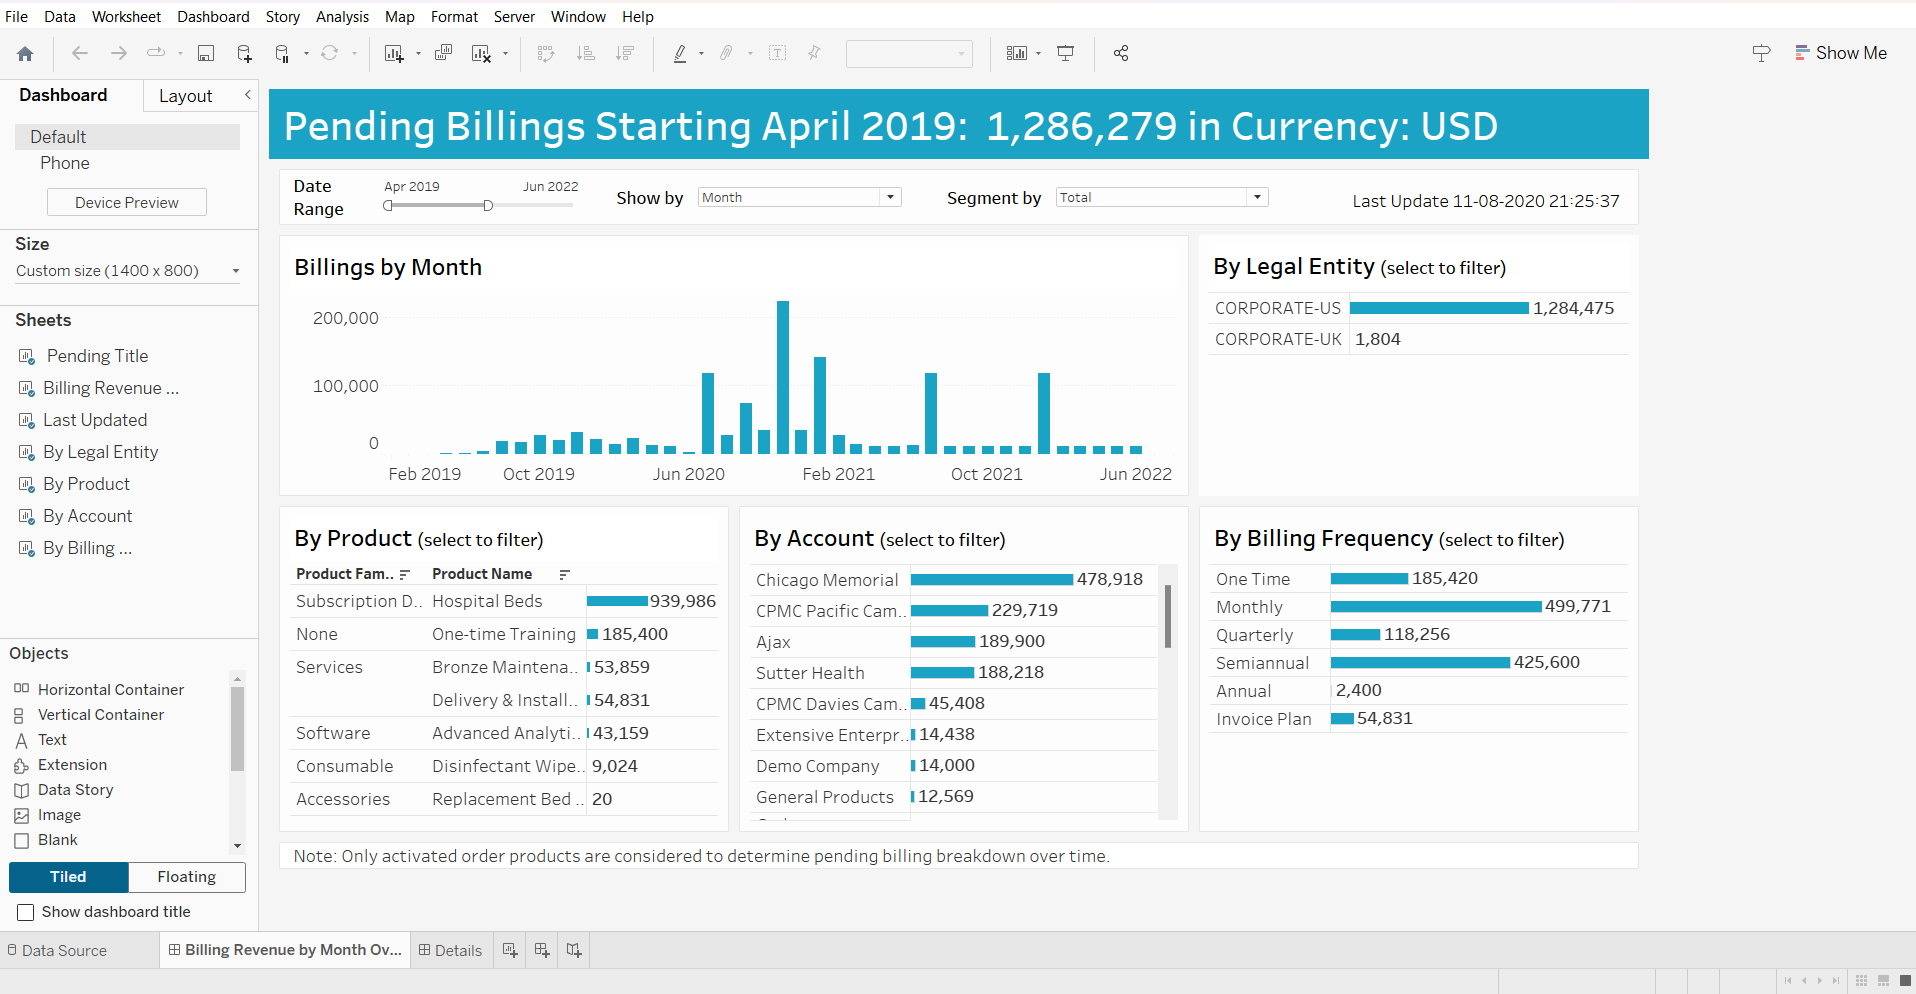

Layout of this report page (visuals, bound fields, positions):
{"tool":"tableau","page":{"name":"Billing Revenue by Month Overview","canvas":[1400,800],"ordinal":0},"visuals":[{"type":"worksheet","title":" Pending Title","mark":"Automatic","box":[10,10,1380,90]},{"type":"text","box":[21,101,80,48]},{"type":"parameter","param":"[Parameters].[Parameter 4]","box":[101,101,134,48]},{"type":"text","box":[235,101,250,48]},{"type":"parameter","param":"[Parameters].[Parameter 5]","box":[485,101,229,48]},{"type":"text","box":[714,101,140,48]},{"type":"parameter","param":"[Parameters].[Parameter 2]","box":[854,101,173.1,48]},{"type":"worksheet","title":"Last Updated","mark":"Automatic","box":[1027,101,352,48]},{"type":"worksheet","title":"Billing Revenue by Month","mark":"Bar","rows":["Calculation_3368551846320123906"],"cols":["Calculation_101119889197658113"],"box":[10,150,920,251]},{"type":"worksheet","title":"By Legal Entity","mark":"Bar","rows":["Legal Entity Name"],"cols":["Calculation_3368551846320123906","Calculation_3368551846320123906"],"box":[930,150,460,251]},{"type":"worksheet","title":"By Product","mark":"Bar","rows":["Product Family","Product Name"],"cols":["Calculation_3368551846320123906","Calculation_3368551846320123906"],"box":[10,401,460,357]},{"type":"worksheet","title":"By Account","mark":"Bar","rows":["Account Name"],"cols":["Calculation_3368551846320123906","Calculation_3368551846320123906"],"box":[470,401,460,357]},{"type":"worksheet","title":"By Billing Frequency","mark":"Bar","rows":["Billing Frequency"],"cols":["Calculation_5688538916514562048","Calculation_5688538916514562048"],"box":[930,401,460,357]},{"type":"text","box":[10,758,1380,32]}]}

Visuals, with their boxes on the page's 1400x800 design canvas (x1, y1, x2, y2). These are canvas units, not pixel positions in the 1916x994 screenshot, which may show the page scaled, cropped or inside an application window:
" Pending Title" worksheet: [10, 10, 1390, 100]
text: [21, 101, 101, 149]
parameter: [101, 101, 235, 149]
text: [235, 101, 485, 149]
parameter: [485, 101, 714, 149]
text: [714, 101, 854, 149]
parameter: [854, 101, 1027, 149]
"Last Updated" worksheet: [1027, 101, 1379, 149]
"Billing Revenue by Month" worksheet (Bar marks): [10, 150, 930, 401]
"By Legal Entity" worksheet (Bar marks): [930, 150, 1390, 401]
"By Product" worksheet (Bar marks): [10, 401, 470, 758]
"By Account" worksheet (Bar marks): [470, 401, 930, 758]
"By Billing Frequency" worksheet (Bar marks): [930, 401, 1390, 758]
text: [10, 758, 1390, 790]
